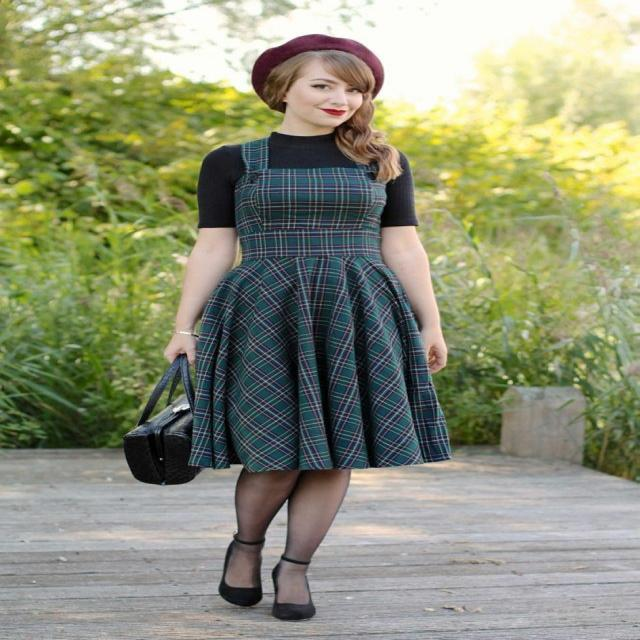female-dress: (172, 134, 484, 494)
